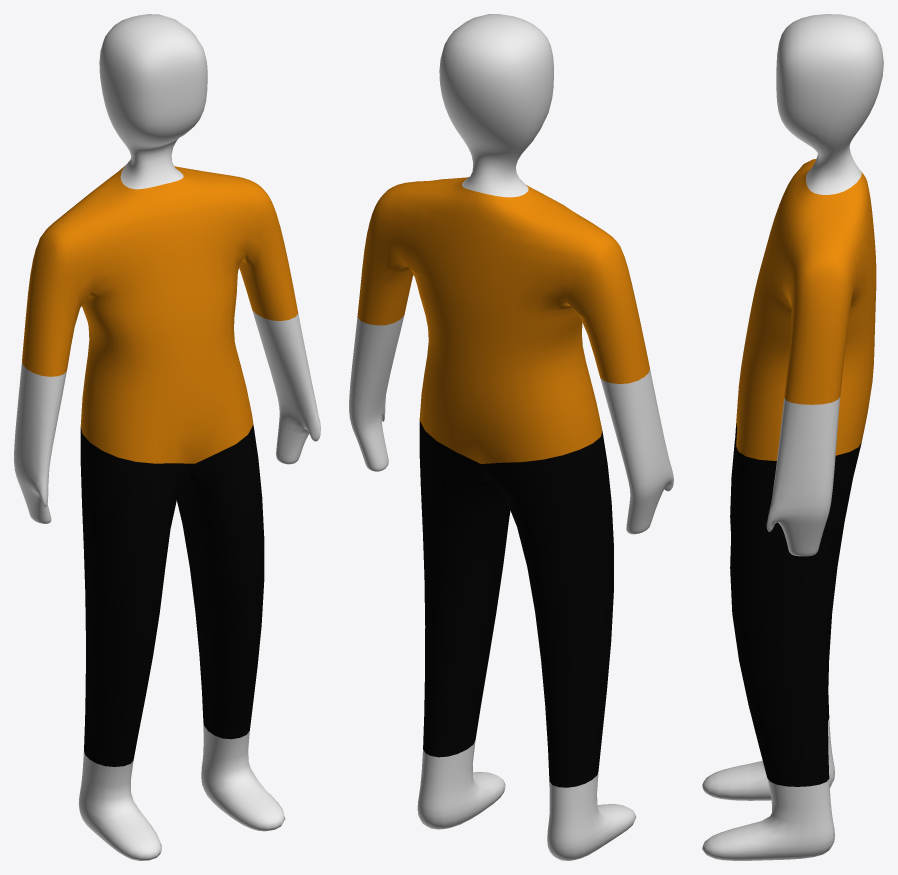
Rendered from person.fbx.
The picture shows the model from 3 angles, left to right: view 1: azimuth 30°, elevation 25°; view 2: azimuth 150°, elevation 25°; view 3: azimuth 270°, elevation 25°; orthographic projection. The views are drawn at different scales.
Parts seen in each view (by area): view 1: Cube; view 2: Cube; view 3: Cube.
Part boxes in pixels (<box>): Cube: <box>14,14,320,860</box>; Cube: <box>349,14,673,860</box>; Cube: <box>702,14,883,860</box>.
Bounding box in the file's own units: 281 × 735 × 150.
